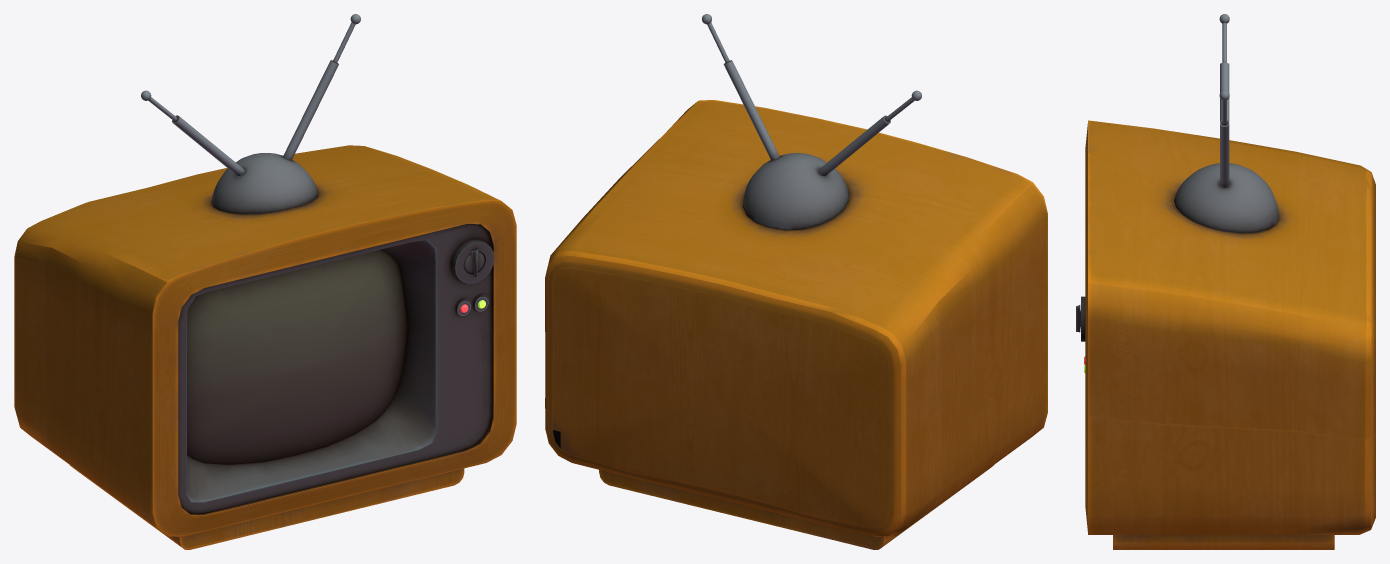
3 views of the same model, side by side, from view 1: azimuth 30°, elevation 25°; view 2: azimuth 150°, elevation 25°; view 3: azimuth 270°, elevation 25° (orthographic).
Visible parts, largest first — view 1: TV_low; view 2: TV_low; view 3: TV_low.
Boxes of the visible parts, x1,y1,x2,y2 form: TV_low: (14,14,516,549); TV_low: (545,14,1047,549); TV_low: (1076,14,1375,549).
Size of the model in its own units: 14.82 by 17.12 by 10.63.
1 material, 1 textured.
